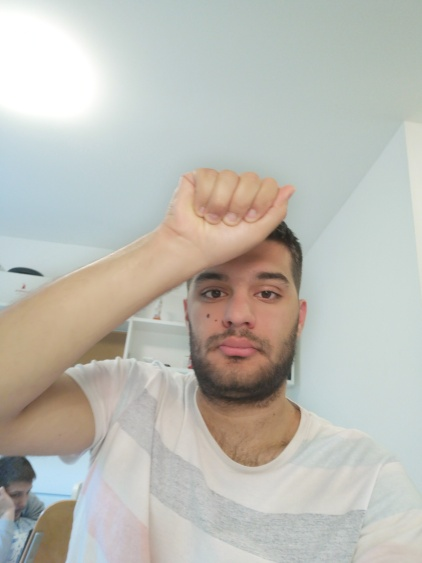A: (158, 161, 297, 264)
